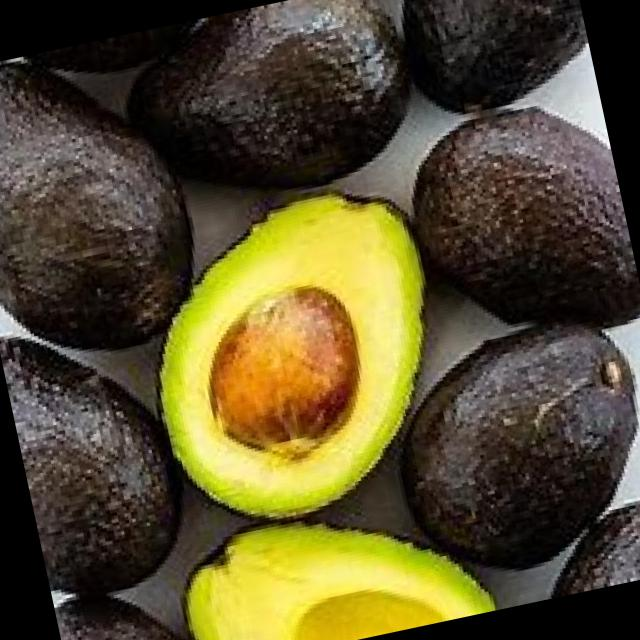avocado: (127, 173, 475, 540), (374, 305, 640, 592), (103, 0, 422, 236), (391, 85, 640, 376), (0, 30, 210, 371)
